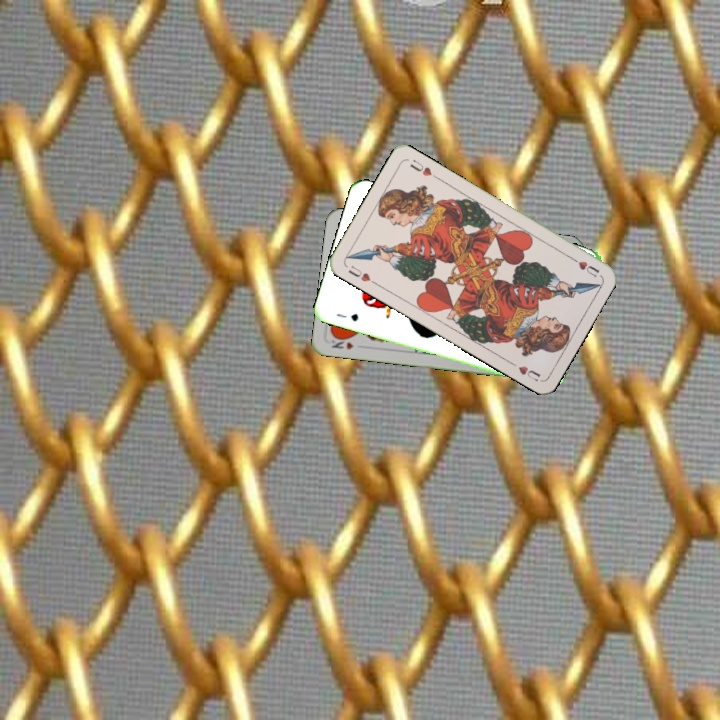GU: (332, 309, 361, 324)
HK: (327, 336, 356, 352)
HU: (566, 253, 602, 280), (344, 261, 379, 287)
